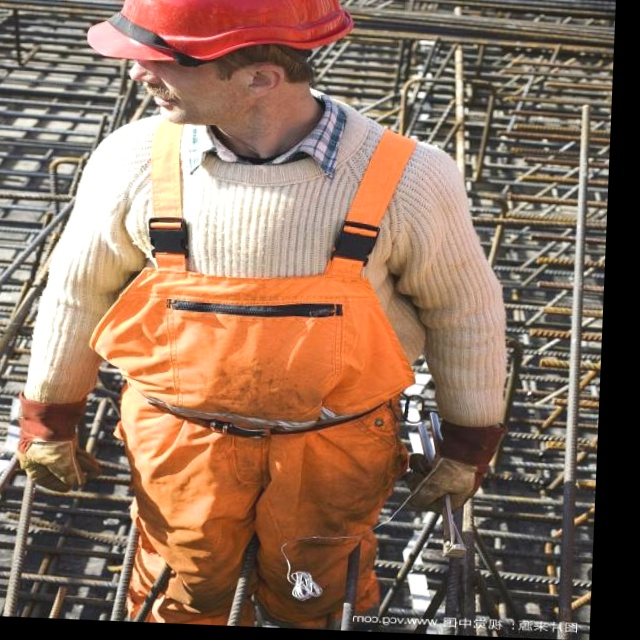Con_Casco: (84, 0, 340, 128)
